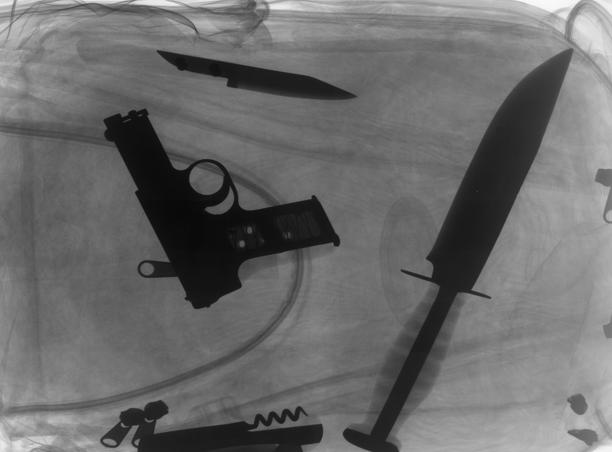Handgun: (100, 107, 343, 312)
Knife: (340, 46, 577, 452), (73, 36, 359, 101)
